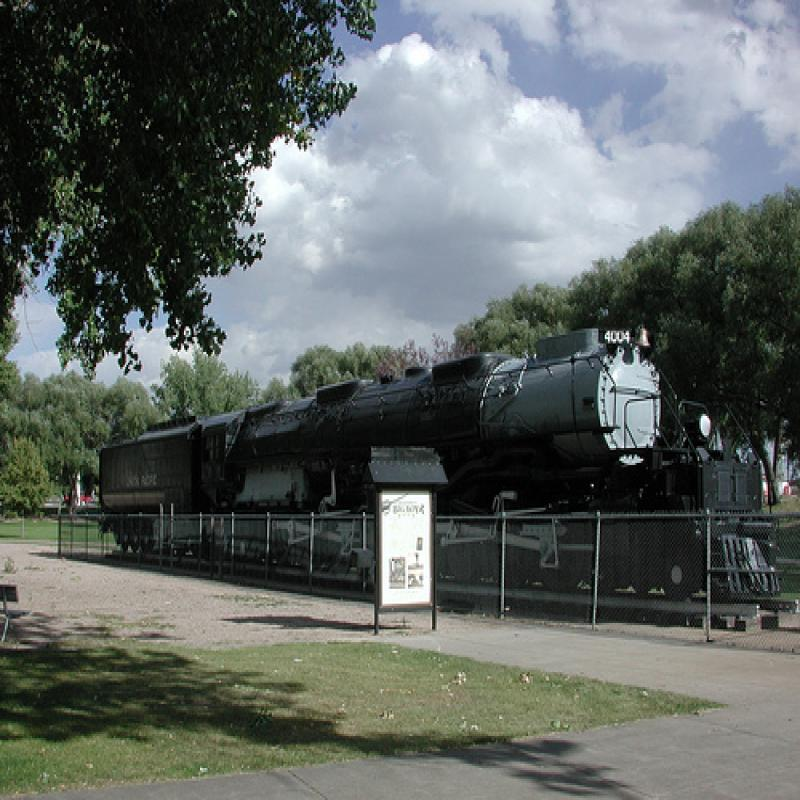train: (97, 332, 780, 609)
